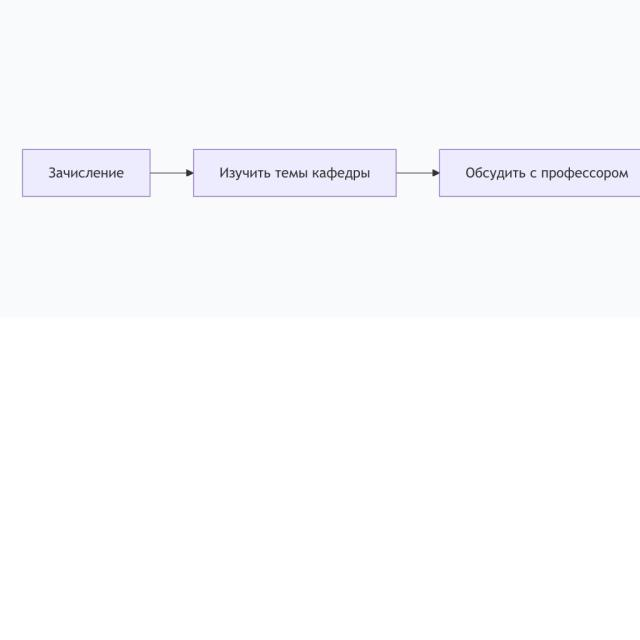arrow: (397, 170, 439, 176), (151, 170, 193, 176)
rectangle: (194, 149, 396, 197), (22, 149, 150, 196)
